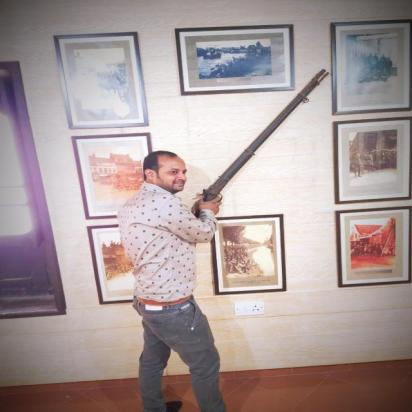Gun: (190, 68, 331, 220)
